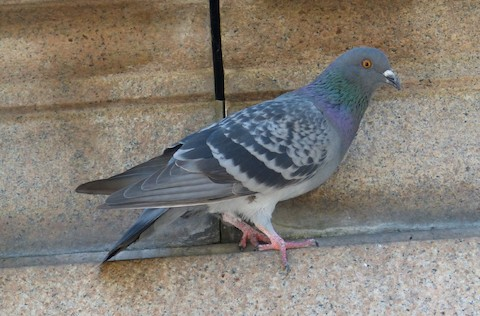pigeon: (72, 43, 405, 269)
